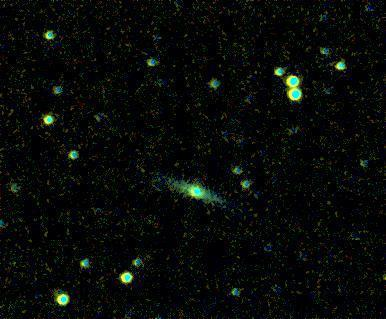star: (127, 157, 157, 187)
